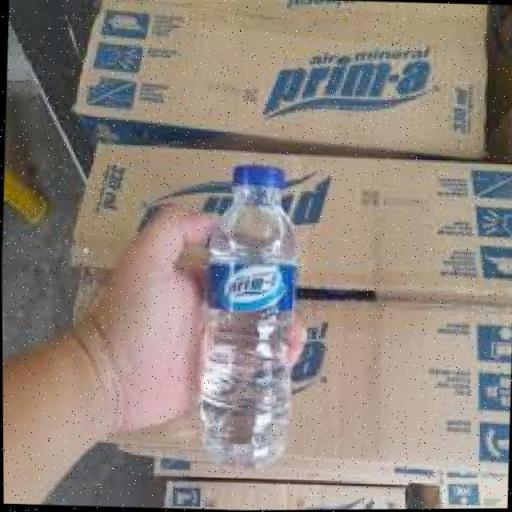plastic: (197, 165, 299, 472)
